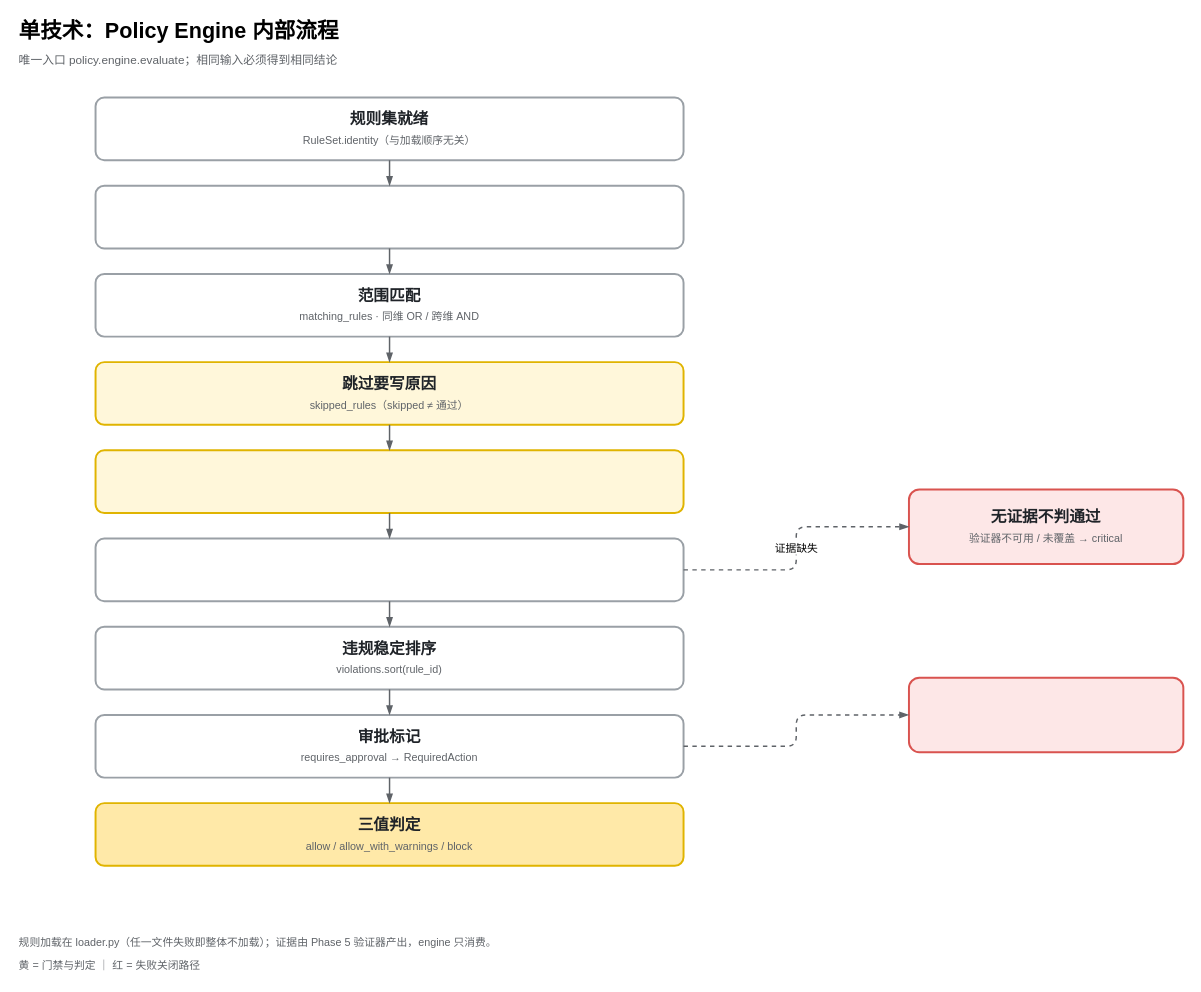
This 1201x992 diagram has some shape labels left out. The shapes that lost their labels are listed below. From the top down, each one's centre as x and y in pixels, then its label:
point 389,216: 上下文规范化 normalize_context · 只接受显式字段
point 389,481: 证据门禁 blocker_for / serves(checker)
point 389,569: checker 分派 checker_handler(checker)
point 1045,714: 高风险要人批 RequiredAction.APPROVAL
